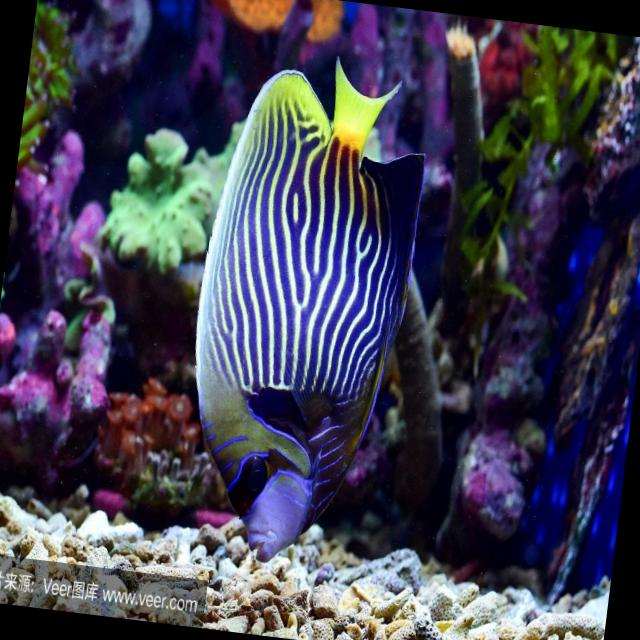AngelFish: (168, 43, 439, 578)
